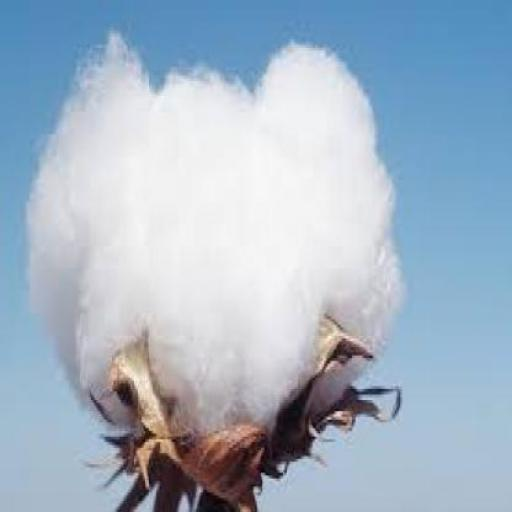cotton_ready: (15, 44, 415, 492)
